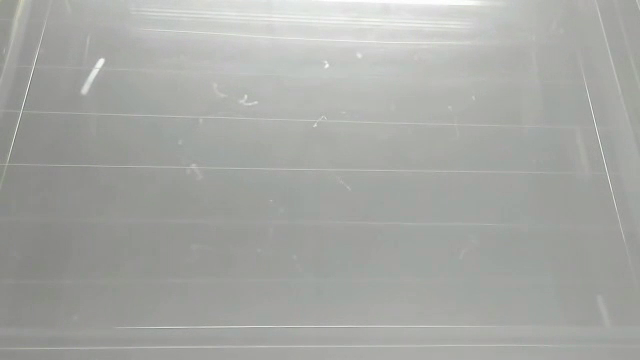alpha: (78, 56, 109, 98), (592, 291, 617, 334)
